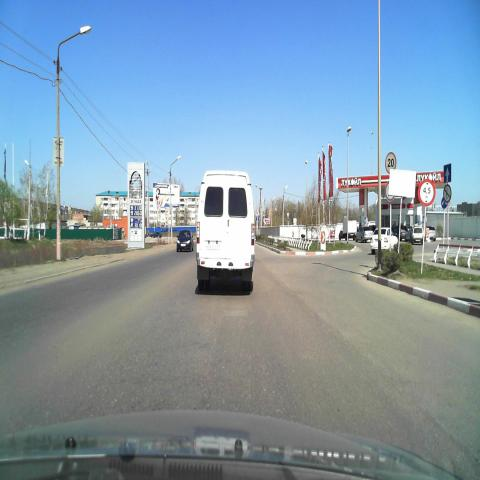3_13: (418, 178, 436, 207)
5_5: (444, 164, 451, 182)
